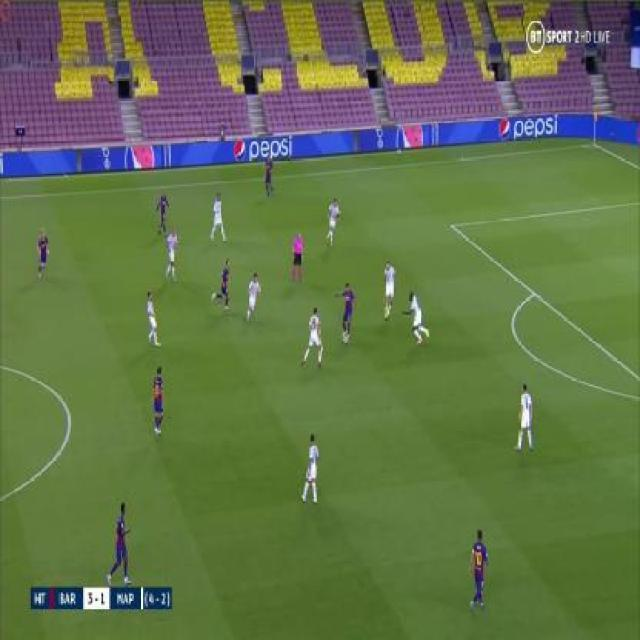ball: (341, 334, 349, 348)
player: (105, 502, 134, 587), (468, 527, 490, 613), (300, 429, 322, 506), (401, 291, 430, 347), (300, 308, 326, 370), (332, 282, 360, 336), (516, 386, 536, 457), (151, 362, 168, 441), (142, 291, 164, 350), (161, 229, 183, 285), (216, 255, 236, 314), (380, 261, 399, 320), (211, 192, 230, 246), (34, 226, 50, 282), (324, 198, 341, 249), (261, 155, 280, 198), (153, 192, 170, 238), (291, 232, 305, 286), (247, 275, 261, 324)
